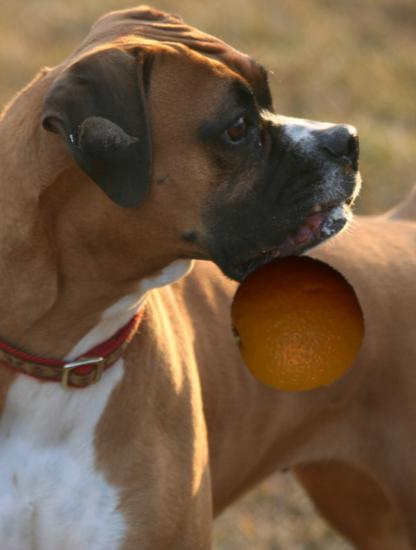Beetroot: (67, 99, 143, 175)
Orange: (227, 252, 369, 394)
